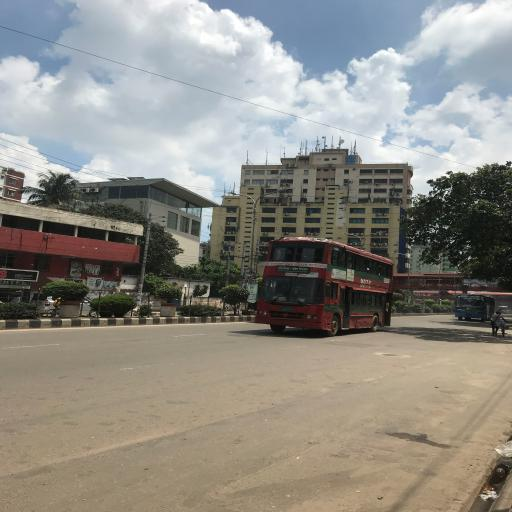bicycle: (492, 312, 511, 340)
bus: (255, 238, 396, 339), (455, 294, 496, 324)
